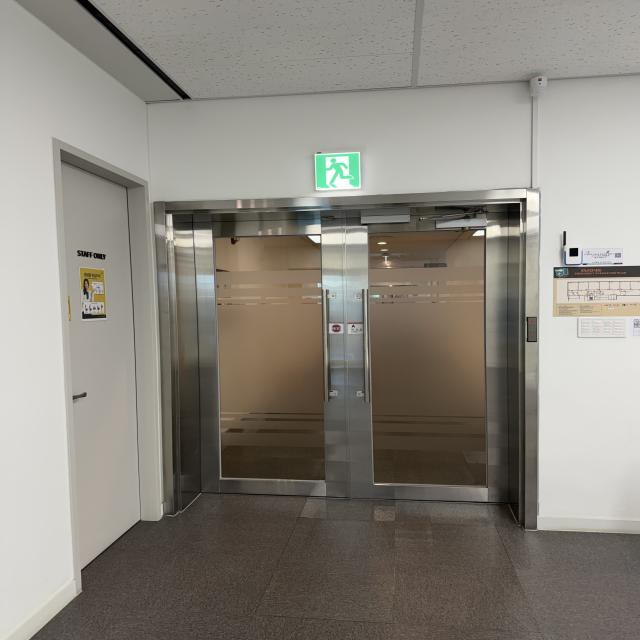rear_door: (179, 208, 517, 505)
